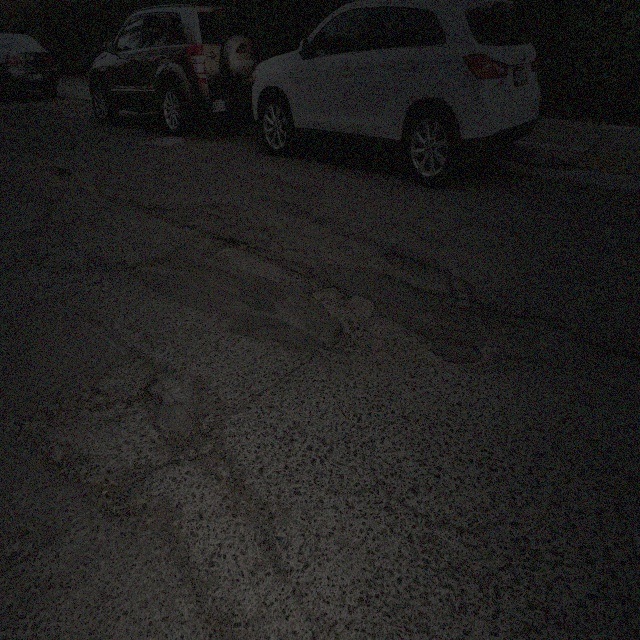pothole: (91, 458, 146, 527), (74, 383, 136, 410), (212, 233, 248, 256), (36, 162, 72, 185)
